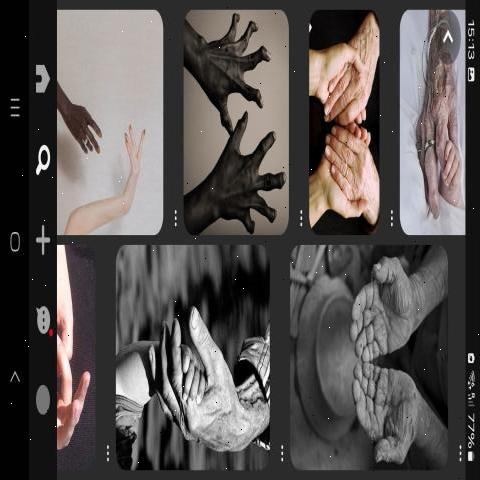Hands: (139, 302, 247, 462), (180, 112, 288, 236), (186, 15, 280, 136), (329, 250, 422, 360), (333, 363, 427, 468), (314, 22, 386, 134), (317, 117, 390, 217), (61, 84, 110, 183), (114, 107, 150, 214)
